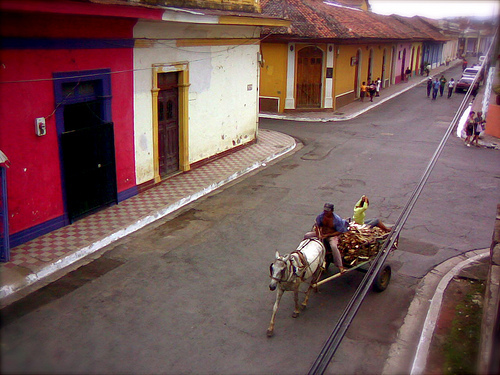horse: (262, 236, 325, 339)
